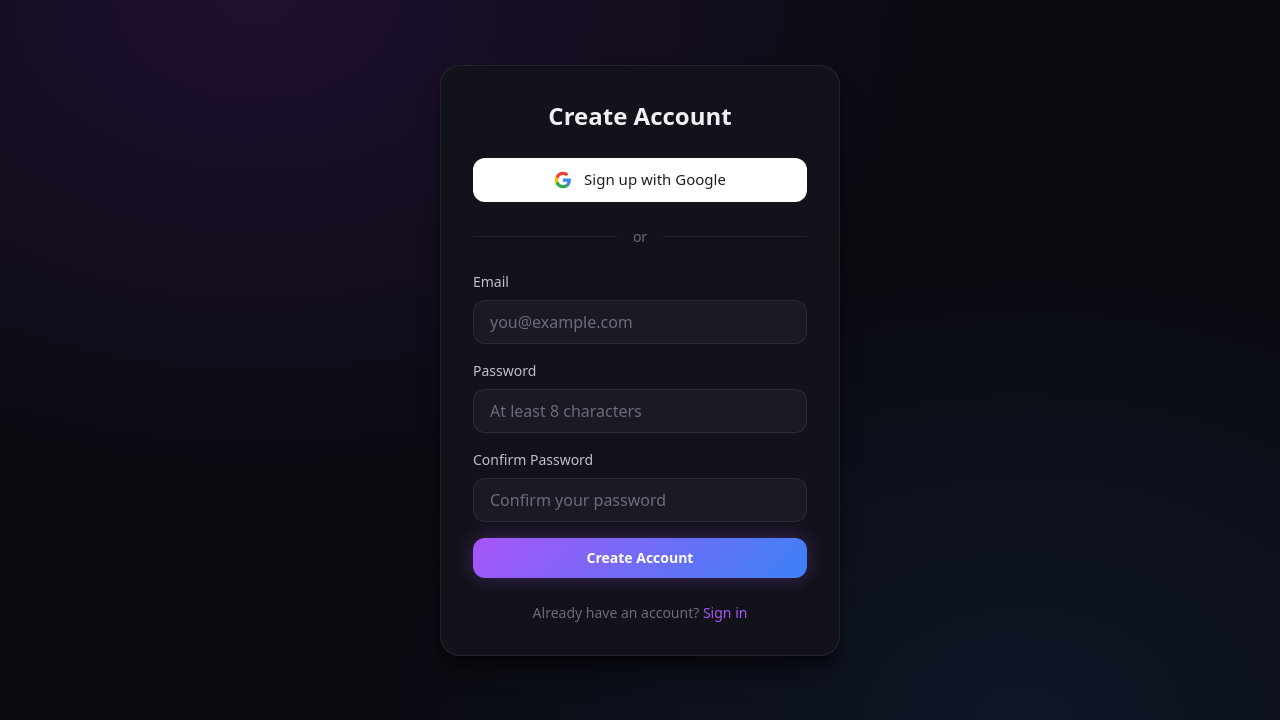
Scenario: RegisterPage › form validation › should show error when password is empty
Type "test@example.com" into the field labelled "Email". click: [640, 322]
box: [473,300,807,344]
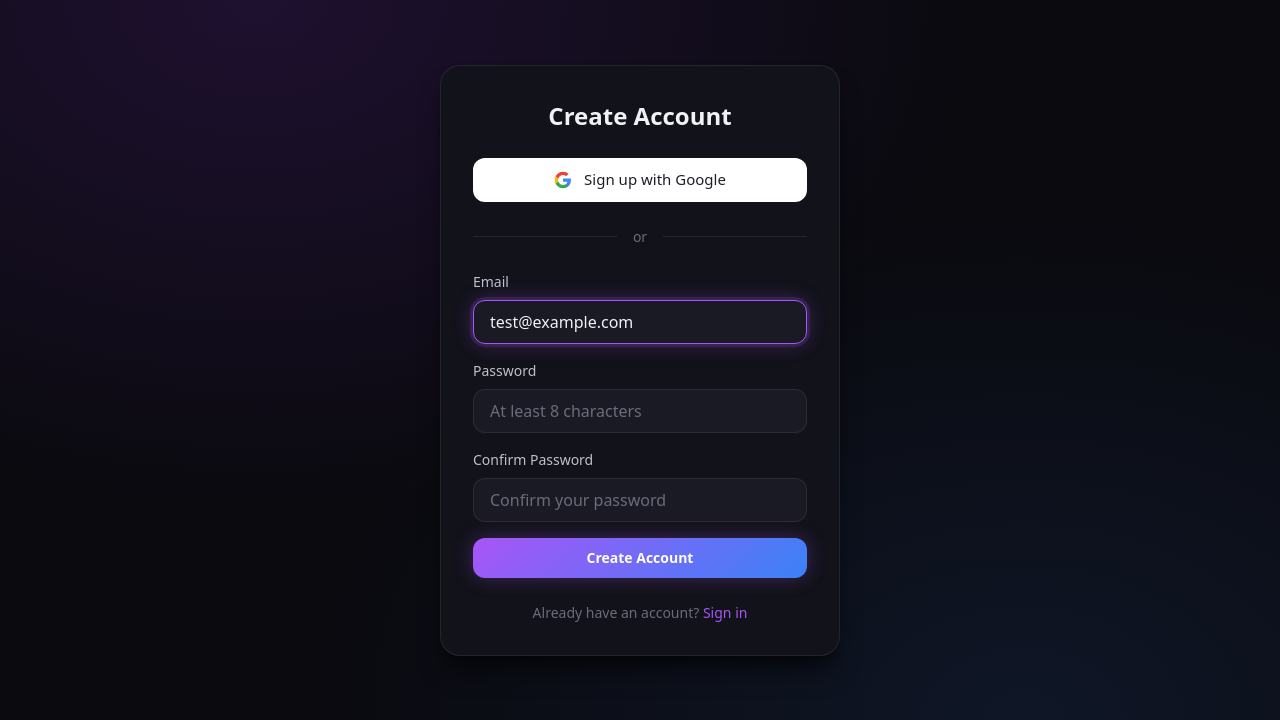
Click the button "Create Account". click: [640, 558]
box: [473,538,807,578]
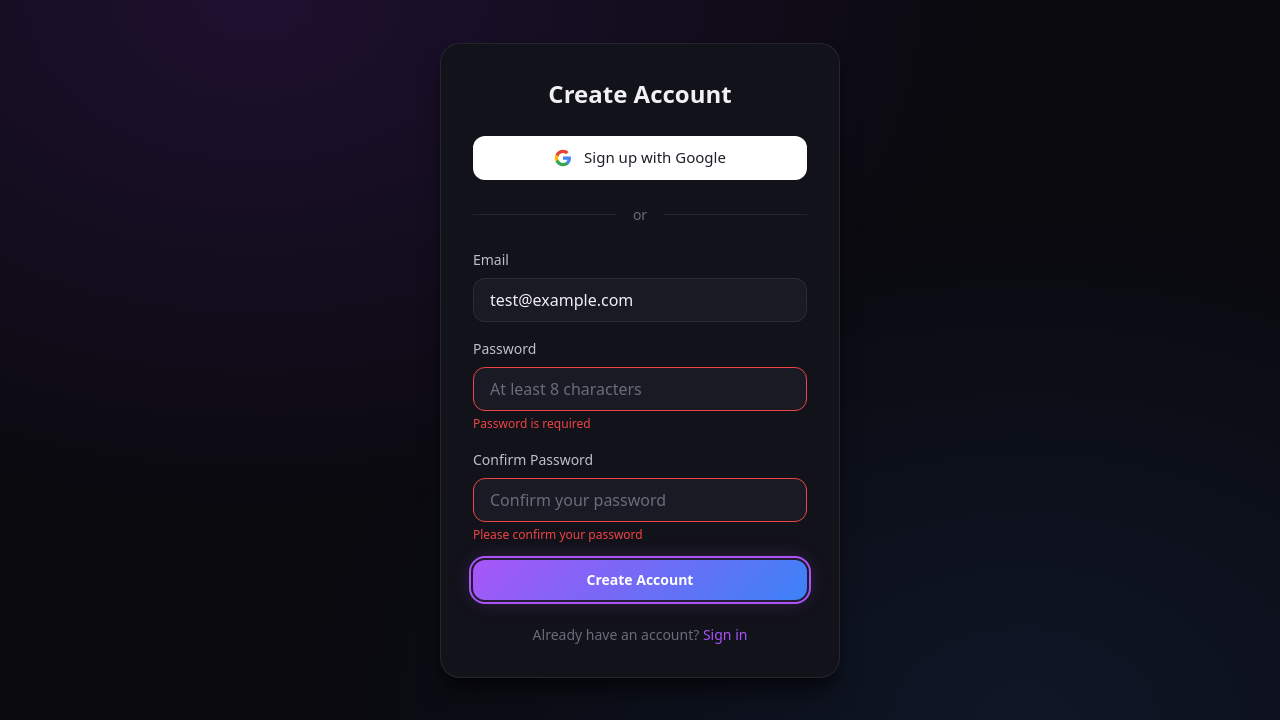
Now the text "Password is required" is shown, box [473,414,591,432]
